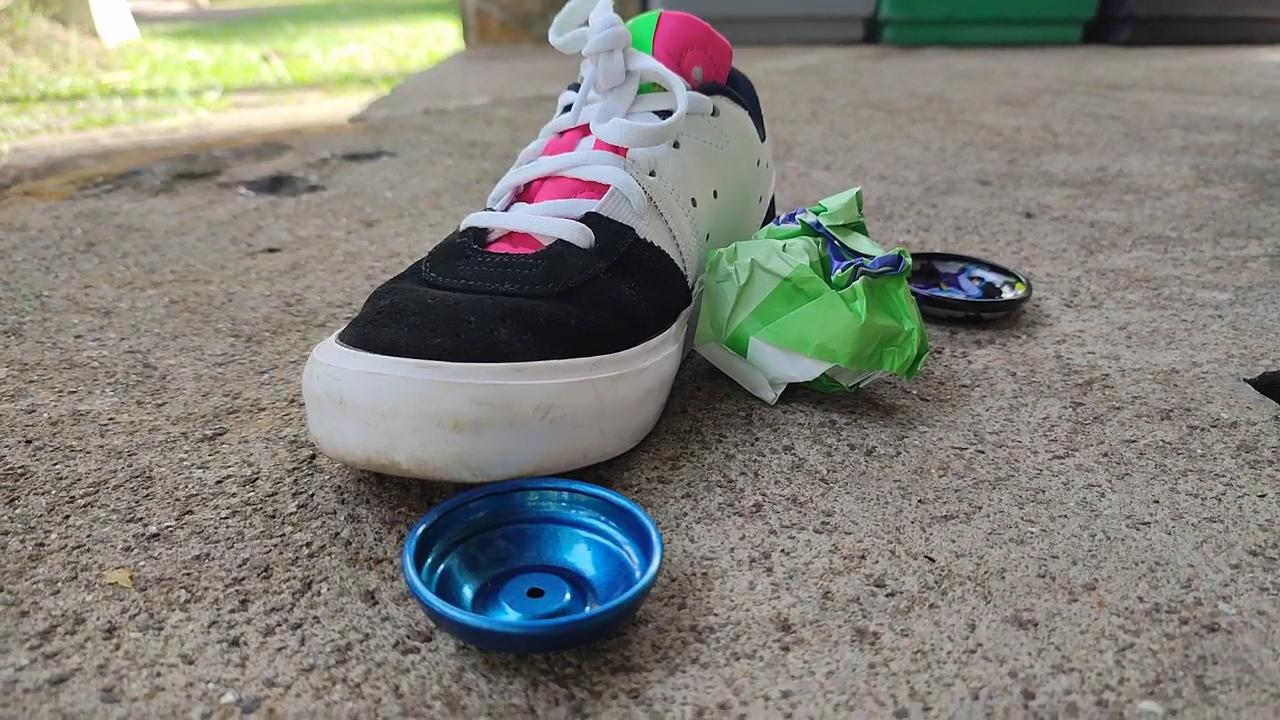Paper: (678, 164, 937, 416)
